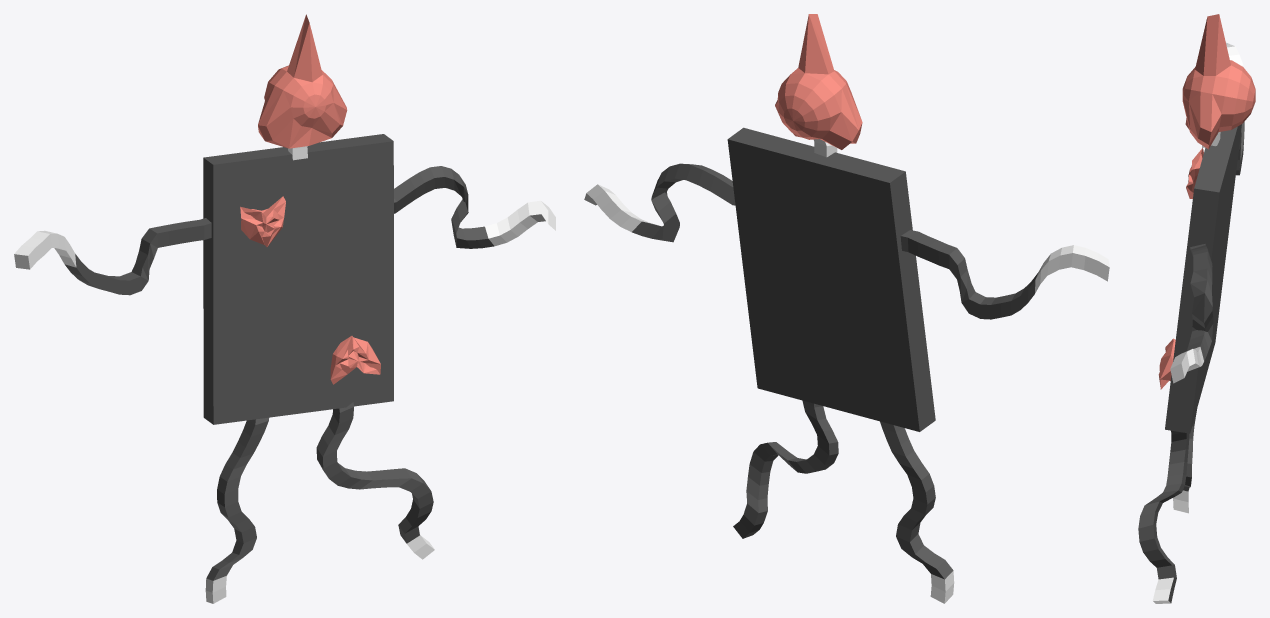
Rendered from cardppl.gltf.
3 renders of one model, left to right at view 1: azimuth 30°, elevation 25°; view 2: azimuth 150°, elevation 25°; view 3: azimuth 270°, elevation 25°, orthographic. The views are drawn at different scales.
Visible parts, largest first — view 1: mesh_748799925, mesh_1349137644, group_199045338, group_1124387250, group_441986675, group_1402433830, mesh_1872495768, mesh_498306588; view 2: mesh_748799925, mesh_1349137644, group_199045338, group_1402433830, group_441986675, group_1124387250; view 3: mesh_748799925, mesh_1349137644, group_1124387250, group_441986675, group_1402433830, mesh_1872495768, group_199045338, mesh_498306588.
Boxes of the visible parts, bbox=[...] form: mesh_748799925: bbox=[203, 134, 393, 424]; mesh_1349137644: bbox=[258, 14, 347, 148]; group_199045338: bbox=[14, 218, 211, 295]; group_1124387250: bbox=[316, 402, 434, 559]; group_441986675: bbox=[394, 166, 555, 248]; group_1402433830: bbox=[205, 417, 268, 603]; mesh_1872495768: bbox=[330, 336, 380, 384]; mesh_498306588: bbox=[240, 196, 285, 246]; mesh_748799925: bbox=[727, 127, 935, 431]; mesh_1349137644: bbox=[775, 14, 862, 149]; group_199045338: bbox=[900, 230, 1109, 319]; group_1402433830: bbox=[880, 421, 954, 603]; group_441986675: bbox=[584, 163, 735, 242]; group_1124387250: bbox=[733, 400, 838, 538]; mesh_748799925: bbox=[1165, 124, 1241, 433]; mesh_1349137644: bbox=[1182, 14, 1255, 149]; group_1124387250: bbox=[1138, 430, 1189, 603]; group_441986675: bbox=[1170, 244, 1213, 383]; group_1402433830: bbox=[1173, 410, 1196, 513]; mesh_1872495768: bbox=[1158, 338, 1175, 389]; group_199045338: bbox=[1226, 42, 1244, 175]; mesh_498306588: bbox=[1186, 148, 1203, 198].
Size of the model in its own units: 1.89 by 1.9 by 0.3647.
